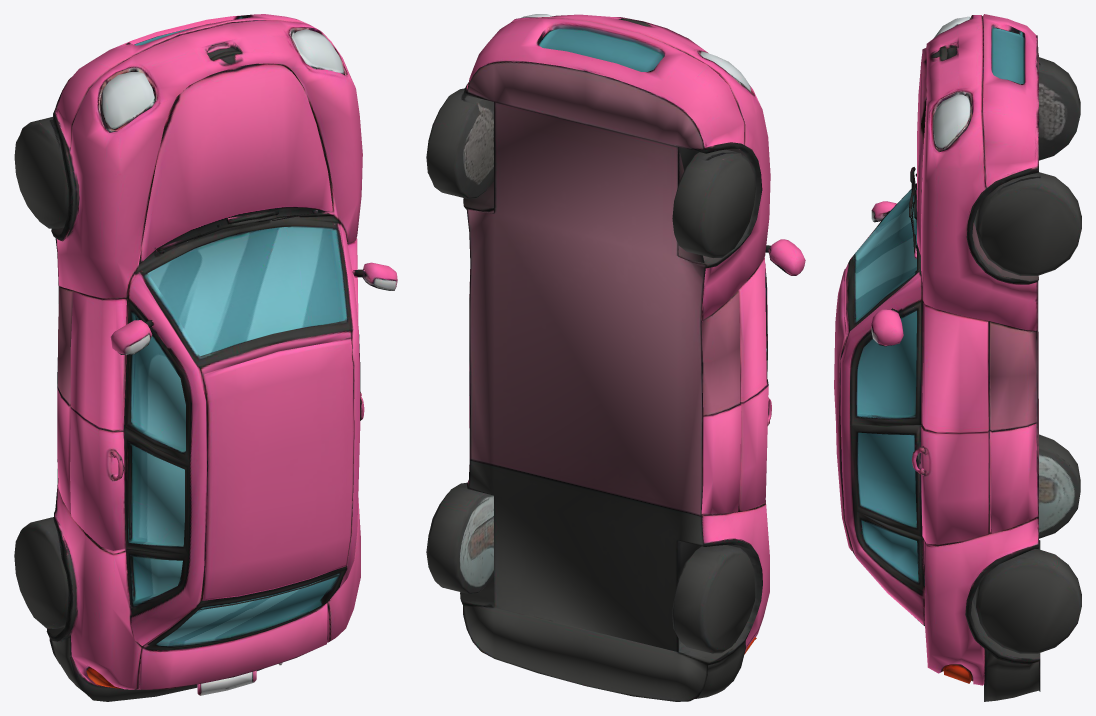
Rendered from selected.fbx.
3 renders of one model, left to right at view 1: azimuth 30°, elevation 25°; view 2: azimuth 150°, elevation 25°; view 3: azimuth 270°, elevation 25°, orthographic. The views are drawn at different scales.
Visible parts, largest first — view 1: tripo_node_b5a58b3c-9c08-4e71-aee9-5ab5e9557606; view 2: tripo_node_b5a58b3c-9c08-4e71-aee9-5ab5e9557606; view 3: tripo_node_b5a58b3c-9c08-4e71-aee9-5ab5e9557606.
Boxes of the visible parts, left/top/right/bottom form: tripo_node_b5a58b3c-9c08-4e71-aee9-5ab5e9557606: left=14, top=14, right=397, bottom=701; tripo_node_b5a58b3c-9c08-4e71-aee9-5ab5e9557606: left=426, top=14, right=805, bottom=701; tripo_node_b5a58b3c-9c08-4e71-aee9-5ab5e9557606: left=834, top=14, right=1081, bottom=701.
Bounding box in the file's own units: 45.51 × 99.8 × 36.13.
1 material, 1 textured.
